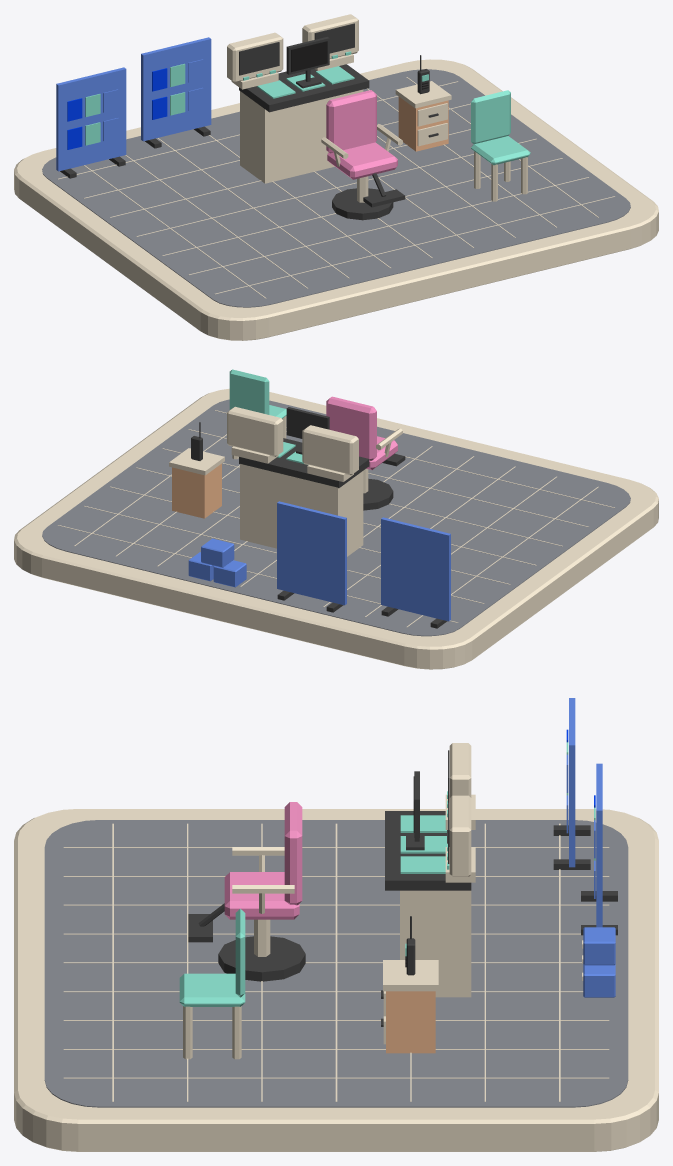
3 views of the same model, one above another, from view 1: azimuth 30°, elevation 25°; view 2: azimuth 150°, elevation 25°; view 3: azimuth 270°, elevation 25° (orthographic). The views are drawn at different scales.
Visible parts, largest first — view 1: COM-02 Floor Surface, COM-01 Rounded Base Direct, Console, Panel.001, Panel.002, Back, Panel, Backrest, Seat, Frame, Housing, Body (+10 smaller); view 2: COM-02 Floor Surface, COM-01 Rounded Base Direct, Panel.002, Panel.001, Console, Housing, Housing.001, Body, Back, Backrest, Panel, Frame (+5 smaller); view 3: COM-02 Floor Surface, COM-01 Rounded Base Direct, Console, Body, Panel, Base, Seat, Seat.001, Housing.001, Back, Top, Stacked case.002 (+14 smaller).
Part boxes in pixels (x1,y1,x2,y2): COM-02 Floor Surface: (42,69,630,307); COM-01 Rounded Base Direct: (14,59,658,340); Console: (240,89,363,183); Panel.001: (56,67,126,171); Panel.002: (141,37,211,141); Back: (326,90,376,153); Panel: (239,64,369,112); Backrest: (471,90,510,144); Seat: (327,142,397,179); Frame: (286,37,329,88); Housing: (227,32,283,82); Body: (398,96,448,151); COM-02 Floor Surface: (42,399,630,636); COM-01 Rounded Base Direct: (14,388,658,669); Panel.002: (277,501,346,605); Panel.001: (381,517,450,621); Console: (240,464,363,556); Housing: (302,425,358,475); Housing.001: (227,406,283,456); Body: (172,463,221,518); Back: (326,396,376,460); Backrest: (229,369,269,414); Panel: (239,438,369,488); Frame: (286,407,329,454); COM-02 Floor Surface: (44,820,628,1107); COM-01 Rounded Base Direct: (14,809,658,1151); Console: (400,890,471,997); Body: (386,991,435,1053); Panel: (385,811,471,890); Base: (218,936,305,981); Seat: (224,872,299,919); Seat.001: (179,973,245,1006); Housing.001: (449,795,471,876); Back: (284,802,302,905); Top: (383,960,438,991); Stacked case.002: (583,927,615,965).
Size of the model in its own units: 6 by 1.88 by 5.2.
Materials: 1 (1 with a texture image).
